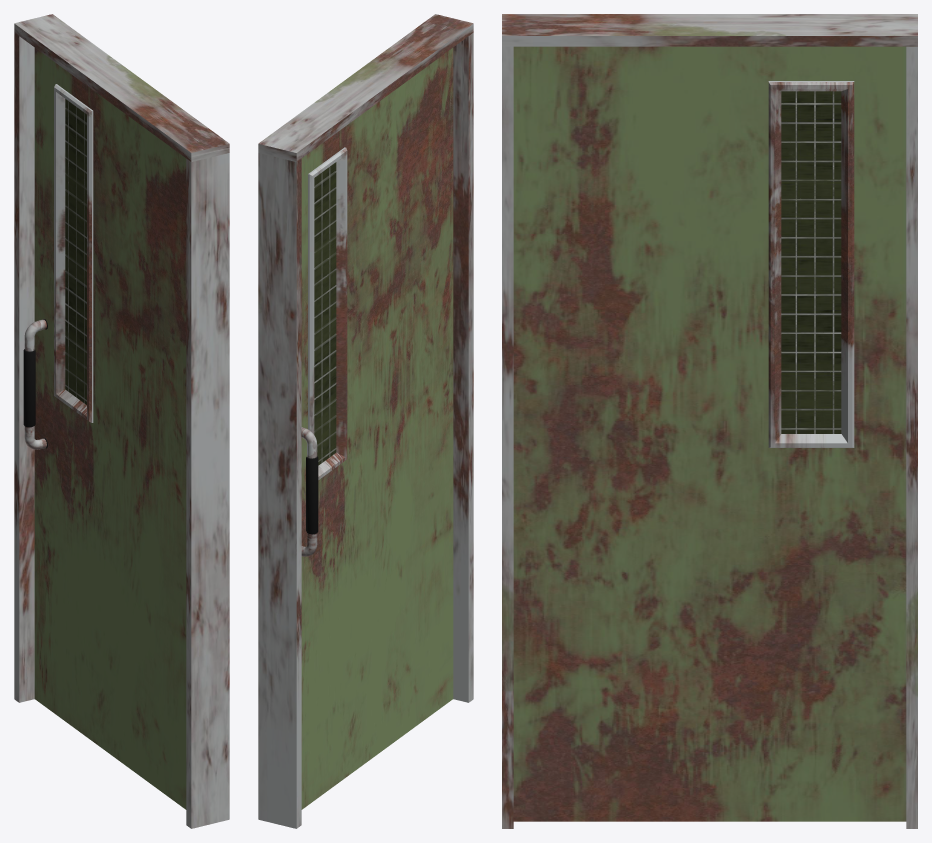
The model's file is PuertaVerde.fbx.
The picture shows the model from 3 angles, left to right: view 1: azimuth 30°, elevation 25°; view 2: azimuth 150°, elevation 25°; view 3: azimuth 270°, elevation 25°; orthographic projection. The views are drawn at different scales.
Visible parts, largest first — view 1: PivotDoor006, Wide; view 2: PivotDoor006, Wide; view 3: PivotDoor006.
Part boxes in pixels (<box>): PivotDoor006: <box>14,14,229,828</box>; Wide: <box>23,319,47,449</box>; PivotDoor006: <box>258,14,473,828</box>; Wide: <box>301,427,318,556</box>; PivotDoor006: <box>502,14,917,828</box>.
Bounding box in the file's own units: 13.53 × 200 × 95.07.
